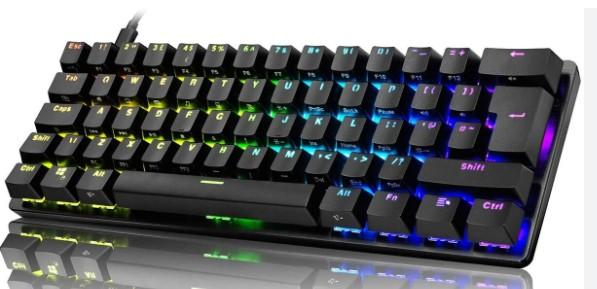Keyboard: (7, 14, 578, 268)
